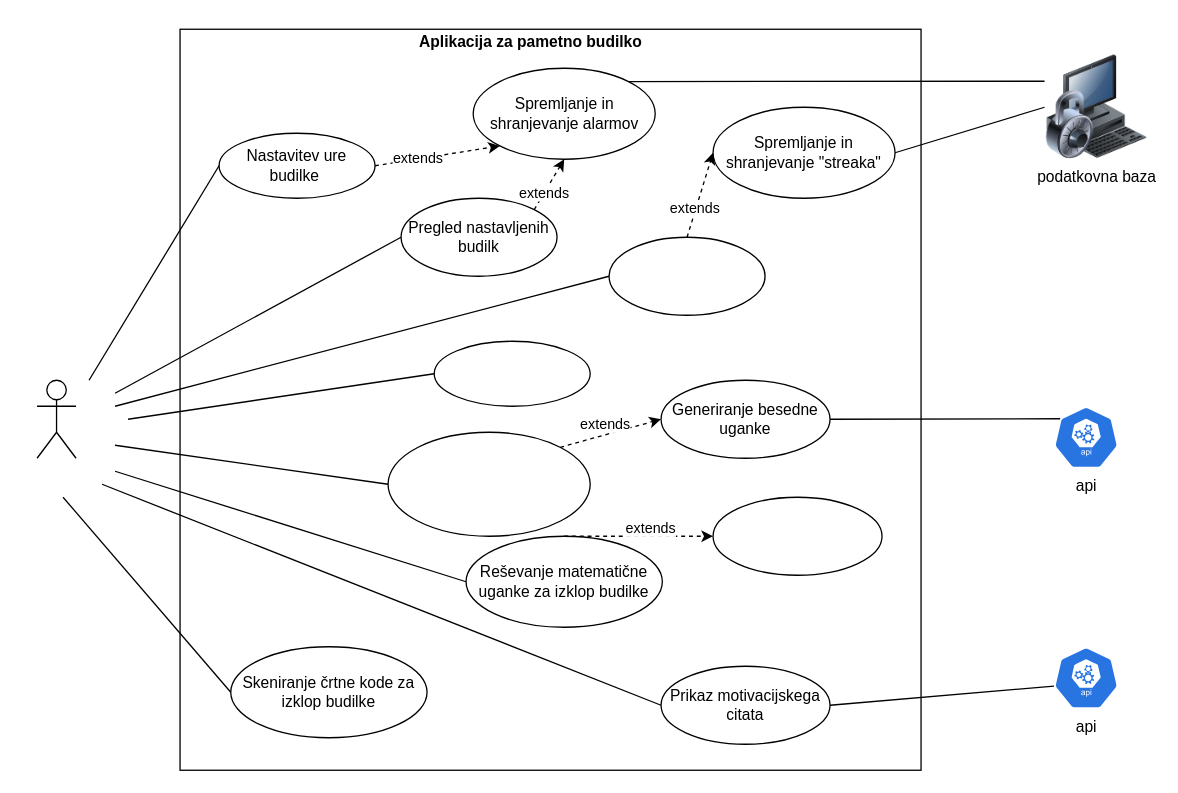
The diagram is 1178 pixels wide and 793 high, and some of its shapes have lost their labels. The centre of each missing label's shape, as x and y in pixels:
Določitev izziva budilke: pixel 511 373
Generiranje matematične uganke: pixel 797 535
Pregled "streaka": pixel 686 275
Reševanje besedne uganke za izklop budilke: pixel 488 483
uporabnik: pixel 56 418
